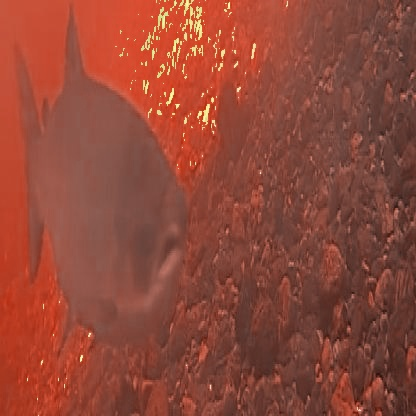salmon: (10, 0, 192, 370)
